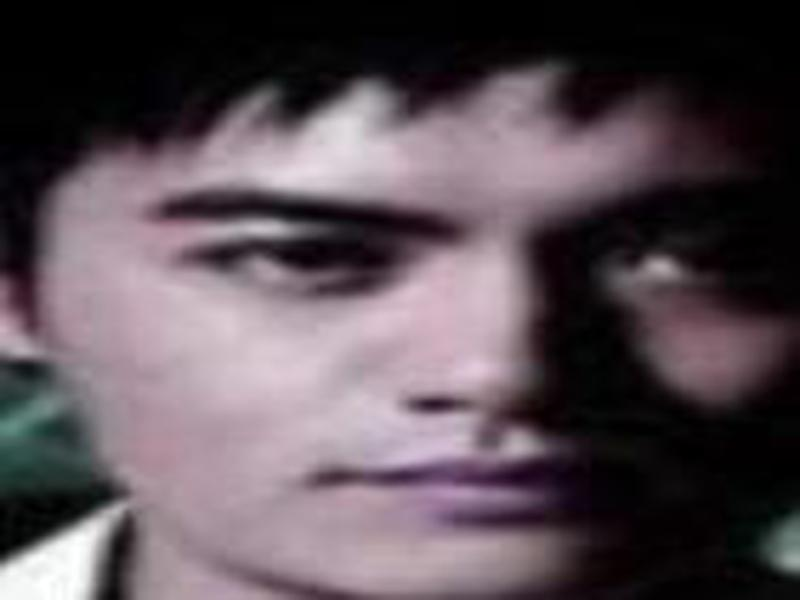without_mask: (46, 76, 789, 593)
